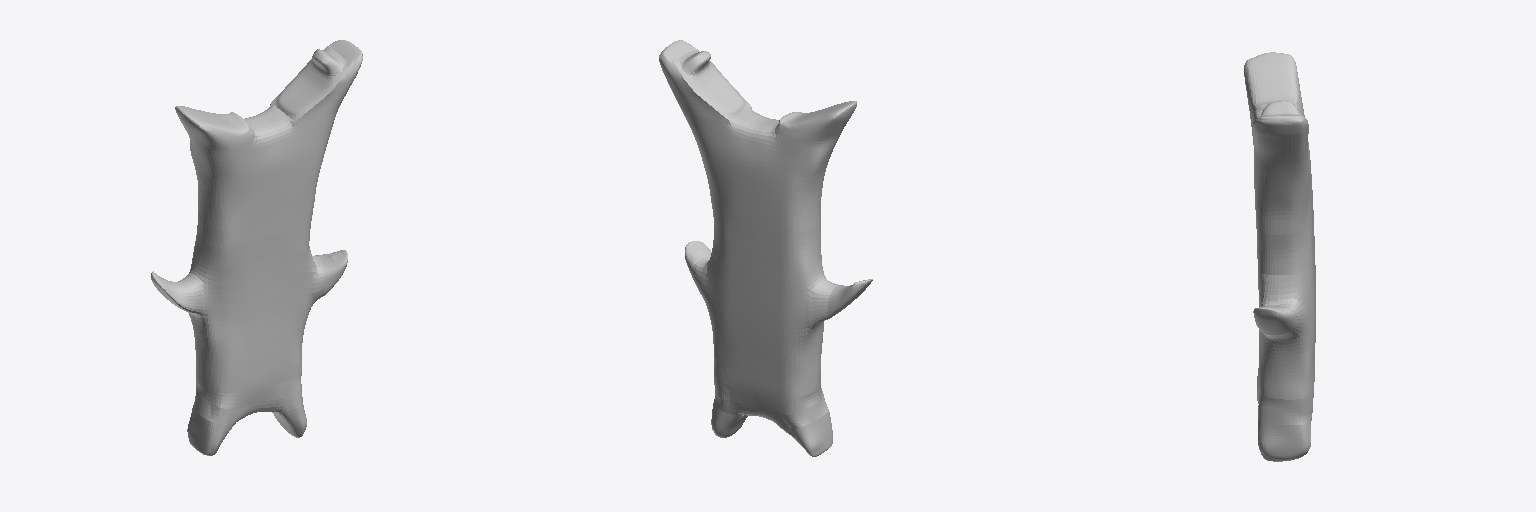
The model's file is korok13.obj.
3 renders of one model, left to right at view 1: azimuth 30°, elevation 25°; view 2: azimuth 150°, elevation 25°; view 3: azimuth 270°, elevation 25°, orthographic.
Parts seen in each view (by area): view 1: Plane; view 2: Plane; view 3: Plane.
Boxes of the visible parts, x1=… form: Plane: x1=151, y1=40, x2=362, y2=455; Plane: x1=659, y1=40, x2=872, y2=456; Plane: x1=1244, y1=52, x2=1315, y2=461.
Size of the model in its own units: 1.03 by 1.82 by 0.3187.